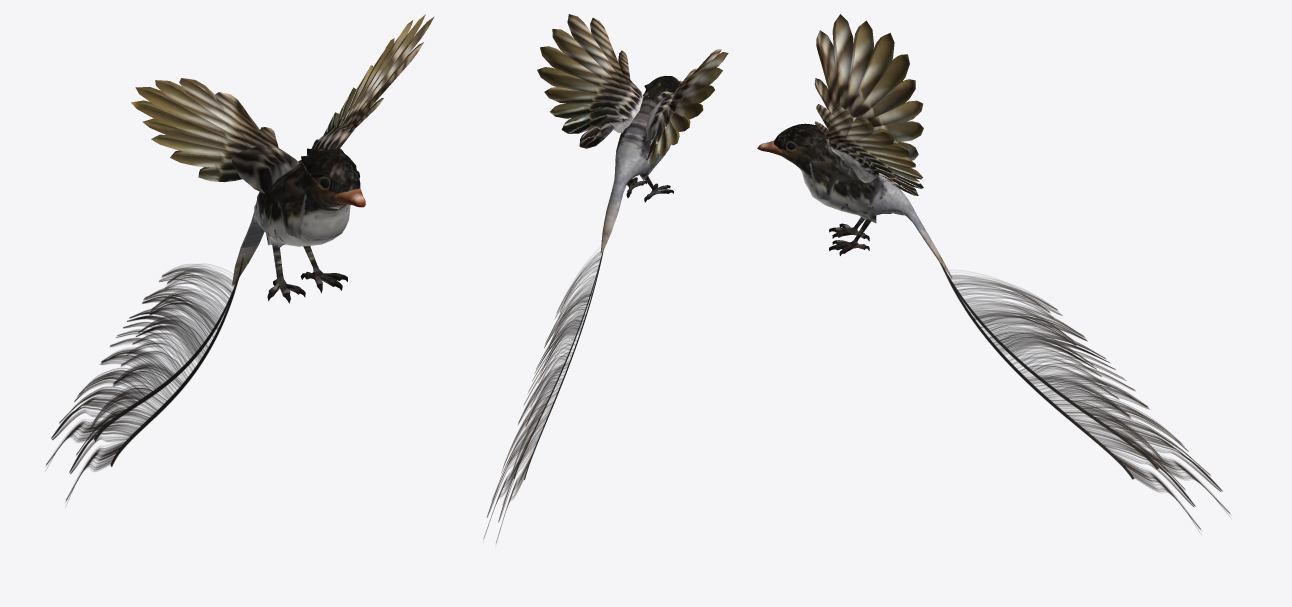
The model's file is yetapa.glb.
3 renders of one model, left to right at view 1: azimuth 30°, elevation 25°; view 2: azimuth 150°, elevation 25°; view 3: azimuth 270°, elevation 25°, orthographic. The views are drawn at different scales.
Visible parts, largest first — view 1: mesh_0_2, mesh_0_5, mesh_0, mesh_0_4, mesh_0_3; view 2: mesh_0_4, mesh_0_2, mesh_0_5, mesh_0; view 3: mesh_0_2, mesh_0, mesh_0_5, mesh_0_4.
Boxes of the visible parts, x1,y1,x2,y2 form: mesh_0_2: (131, 78, 350, 285); mesh_0_5: (45, 264, 242, 469); mesh_0: (65, 257, 243, 505); mesh_0_4: (268, 14, 434, 297); mesh_0_3: (312, 173, 365, 207); mesh_0_4: (537, 14, 680, 199); mesh_0_2: (600, 49, 728, 252); mesh_0_5: (483, 254, 601, 538); mesh_0: (496, 251, 603, 543); mesh_0_2: (779, 14, 952, 278); mesh_0: (940, 262, 1200, 533); mesh_0_5: (939, 261, 1230, 517); mesh_0_4: (774, 104, 923, 253).
Bounding box in the file's own units: 0.6421 × 1.58 × 1.4.
6 materials, 5 textured.
